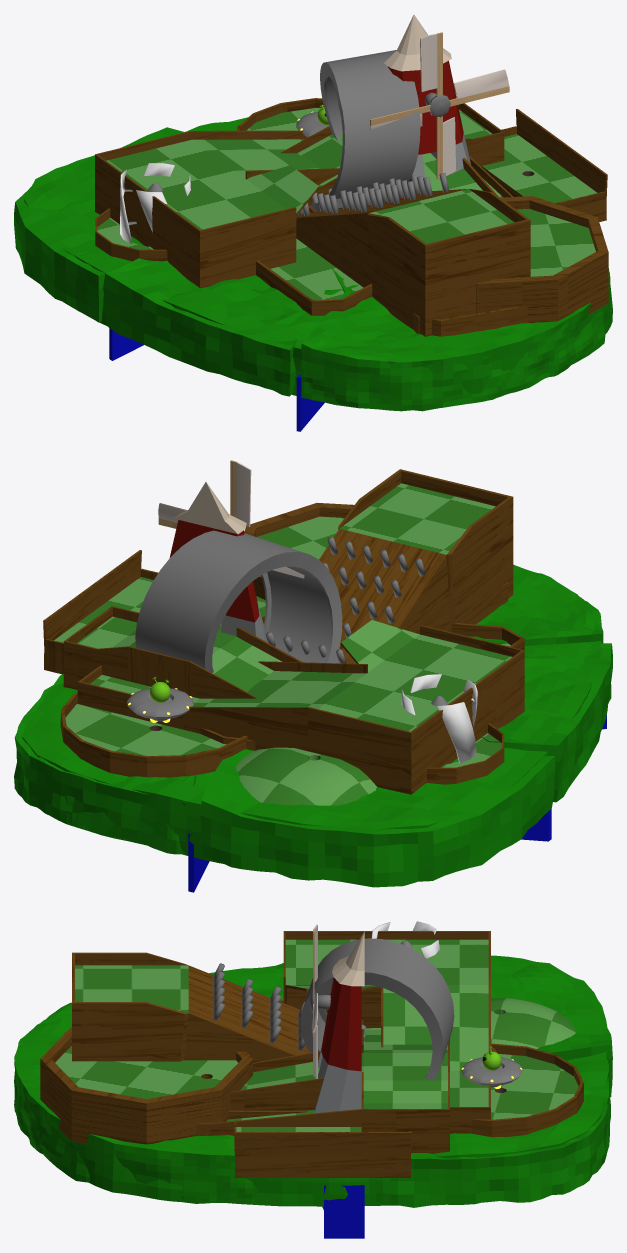
File: Mini Golf Levels v1.2.fbx
3 renders of one model, top to bottom at view 1: azimuth 30°, elevation 25°; view 2: azimuth 150°, elevation 25°; view 3: azimuth 270°, elevation 25°, orthographic. The views are drawn at different scales.
Visible parts, largest first — view 1: Hole 8 The End of the World!.Start Platform, Hole 8 The End of the World!.Second Platform, Hole 5 Walls, Hole 7 Spash! Walls, Hole 7 Spash! Ground, Hole 3 Main Area, Loop, Hole 8 The End of the World!.Third Platform, Hole 3 Start Walls, Hole 5 Plinko, H Windmill Blades, Hole 5 Top (+13 smaller); view 2: Hole 8 The End of the World!.Third Platform, Hole 7 Spash! Walls, Loop, Hole 3 Main Area, Hole 7 Spash! Ground, Hole 5 Walls, Hole 5 Plinko, Hole 4 Windmill Trouble Walls, Hole 8 The End of the World!.Second Platform, Hole 8 The End of the World!.Final Platform, Hole 2 Beautiful Lake, Hole 5 Top (+15 smaller); view 3: Hole 3 Main Area, Hole 8 The End of the World!.Final Platform, Hole 7 Spash! Ground, Hole 8 The End of the World!.Start Platform, Hole 3 Start Walls, Hole 5 Walls, Hole 7 Spash p2 Walls, Loop, Hole 5 Plinko, Hole 7 Spash! Walls, Hole 4 Windmill Trouble Ground, Hole 4 Windmill Trouble Walls (+14 smaller).
Part boxes in pixels (box(x1,y1,x2,y2)): Hole 8 The End of the World!.Start Platform: box(300, 267, 609, 411); Hole 8 The End of the World!.Second Platform: box(103, 258, 309, 396); Hole 5 Walls: box(256, 189, 530, 336); Hole 7 Spash! Walls: box(95, 130, 513, 288); Hole 7 Spash! Ground: box(106, 139, 503, 229); Hole 3 Main Area: box(24, 121, 612, 411); Loop: box(311, 50, 420, 211); Hole 8 The End of the World!.Third Platform: box(14, 127, 184, 322); Hole 3 Start Walls: box(476, 196, 608, 323); Hole 5 Plinko: box(296, 189, 466, 287); H Windmill Blades: box(370, 32, 509, 179); Hole 5 Top: box(369, 189, 514, 243); Hole 8 The End of the World!.Third Platform: box(200, 749, 555, 887); Hole 7 Spash! Walls: box(77, 625, 524, 794); Loop: box(135, 530, 342, 672); Hole 3 Main Area: box(22, 564, 601, 880); Hole 7 Spash! Ground: box(90, 620, 512, 731); Hole 5 Walls: box(200, 469, 524, 750); Hole 5 Plinko: box(319, 528, 450, 663); Hole 4 Windmill Trouble Walls: box(63, 606, 504, 784); Hole 8 The End of the World!.Second Platform: box(482, 643, 612, 802); Hole 8 The End of the World!.Final Platform: box(14, 674, 197, 854); Hole 2 Beautiful Lake: box(236, 747, 376, 805); Hole 5 Top: box(340, 483, 495, 554); Hole 3 Main Area: box(14, 964, 610, 1206); Hole 8 The End of the World!.Final Platform: box(369, 1060, 610, 1207); Hole 7 Spash! Ground: box(226, 939, 488, 1121); Hole 8 The End of the World!.Start Platform: box(14, 1002, 260, 1204); Hole 3 Start Walls: box(40, 1027, 252, 1144); Hole 5 Walls: box(72, 952, 497, 1119); Hole 7 Spash p2 Walls: box(234, 1120, 411, 1177); Loop: box(300, 938, 454, 1080); Hole 5 Plinko: box(184, 965, 309, 1062); Hole 7 Spash! Walls: box(196, 931, 490, 1136); Hole 4 Windmill Trouble Ground: box(240, 1028, 447, 1108); Hole 4 Windmill Trouble Walls: box(230, 1020, 449, 1153).
Size of the model in its own units: 1675 by 928 by 1939.
